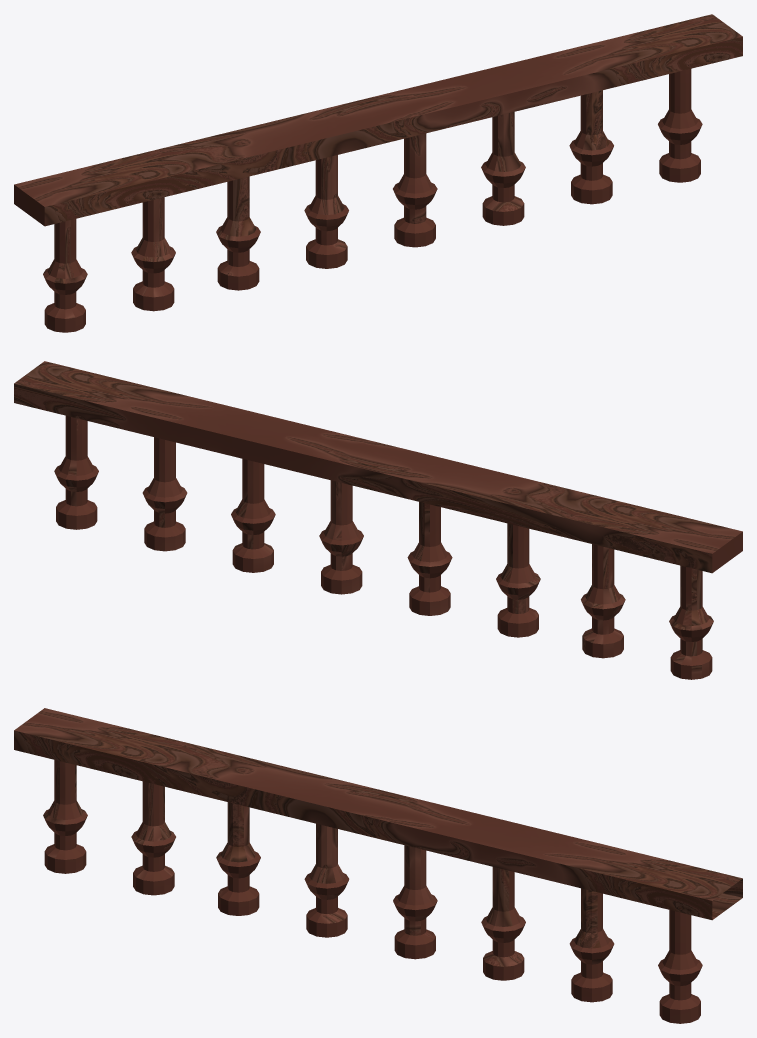
Rendered from Guardrail_straight_1.fbx.
The picture shows the model from 3 angles, top to bottom: view 1: azimuth 30°, elevation 25°; view 2: azimuth 150°, elevation 25°; view 3: azimuth 330°, elevation 25°; orthographic projection.
Parts seen in each view (by area): view 1: Guardrail_Straight; view 2: Guardrail_Straight; view 3: Guardrail_Straight.
Boxes of the visible parts, x1,y1,x2,y2 form: Guardrail_Straight: (14,14,742,332); Guardrail_Straight: (14,361,742,679); Guardrail_Straight: (14,708,742,1023).
Size of the model in its own units: 1315 by 247 by 100.
